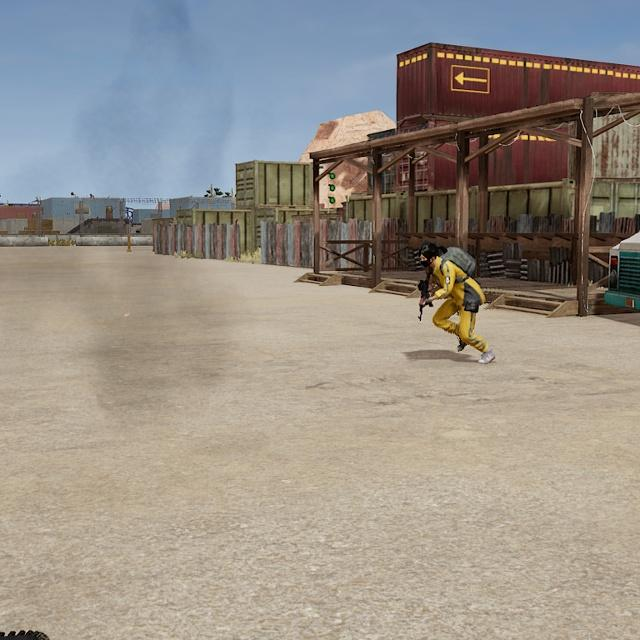head: (417, 240, 439, 268)
people: (413, 239, 497, 367)
